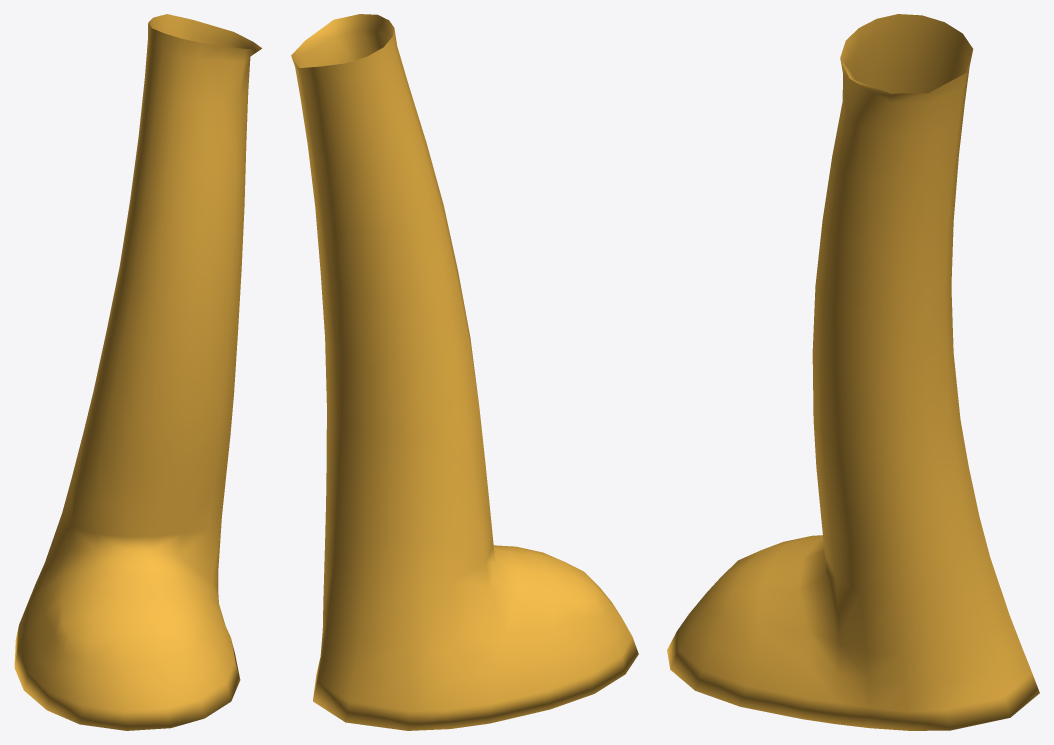
The model's file is R_leg.obj.
3 renders of one model, left to right at view 1: azimuth 30°, elevation 25°; view 2: azimuth 150°, elevation 25°; view 3: azimuth 270°, elevation 25°, orthographic. The views are drawn at different scales.
Parts seen in each view (by area): view 1: R_leg Jake; view 2: R_leg Jake; view 3: R_leg Jake.
Part boxes in pixels (x1=…): R_leg Jake: x1=14, y1=14, x2=261, y2=730; R_leg Jake: x1=291, y1=14, x2=638, y2=730; R_leg Jake: x1=667, y1=14, x2=1039, y2=730.
Bounding box in the file's own units: 1.98 × 4.48 × 2.19.
